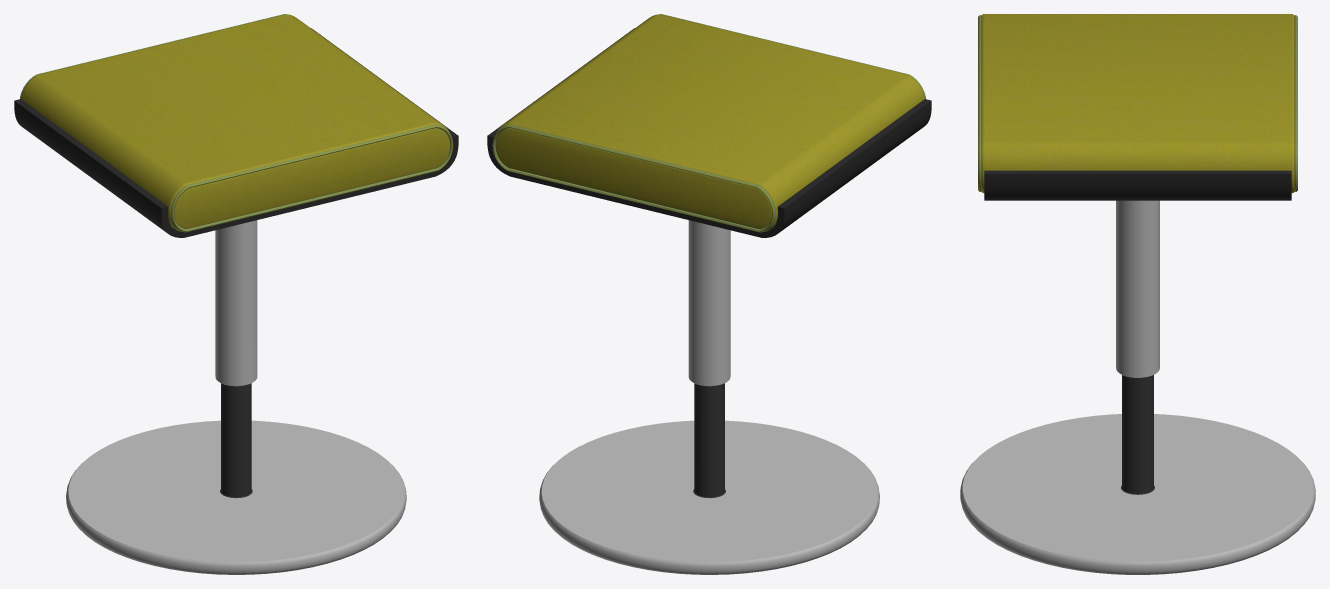
File: Mirima-Tabouret_Roma-3D.FBX
The picture shows the model from 3 angles, left to right: view 1: azimuth 30°, elevation 25°; view 2: azimuth 150°, elevation 25°; view 3: azimuth 270°, elevation 25°; orthographic projection. The views are drawn at different scales.
Parts seen in each view (by area): view 1: MRM010005 Tabouret Roma Object by Polantis 2013; view 2: MRM010005 Tabouret Roma Object by Polantis 2013; view 3: MRM010005 Tabouret Roma Object by Polantis 2013.
Part boxes in pixels (x1,y1,x2,y2): MRM010005 Tabouret Roma Object by Polantis 2013: [14, 14, 458, 574]; MRM010005 Tabouret Roma Object by Polantis 2013: [487, 14, 931, 574]; MRM010005 Tabouret Roma Object by Polantis 2013: [960, 14, 1315, 574].
Size of the model in its own units: 0.5011 by 0.4973 by 0.6533.
